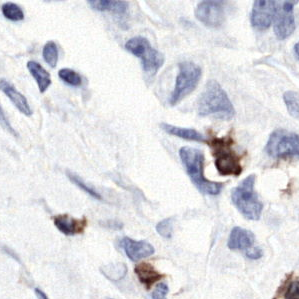Lymphocyte: (209, 131, 246, 175)
